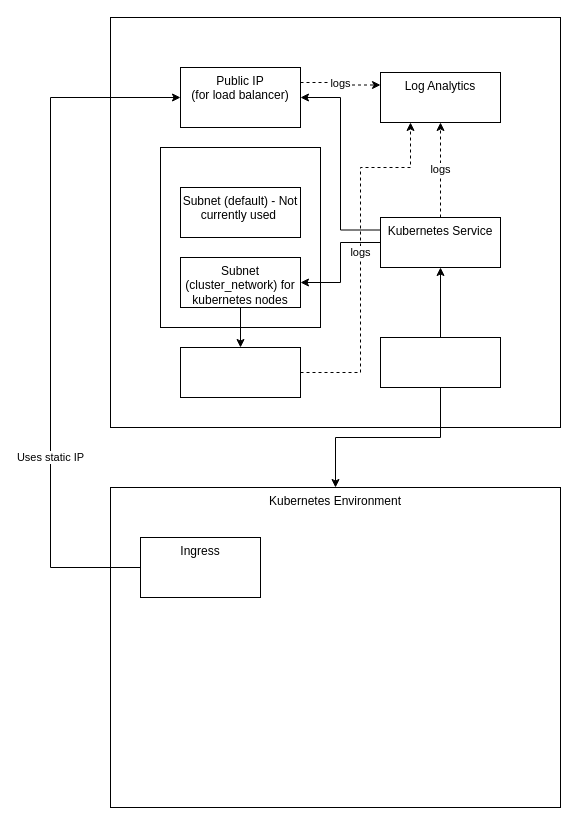
This 578x825 diagram has some shape labels left out. The shapes that lost their labels are listed below. From the top down, each one's box as (x1, y1, x2, y2) in pixels, then its label:
(160, 146, 320, 328): Virtual Network
(110, 16, 560, 428): Terraform
(180, 346, 300, 398): Network security group
(380, 336, 500, 388): Nidhogg Chart
